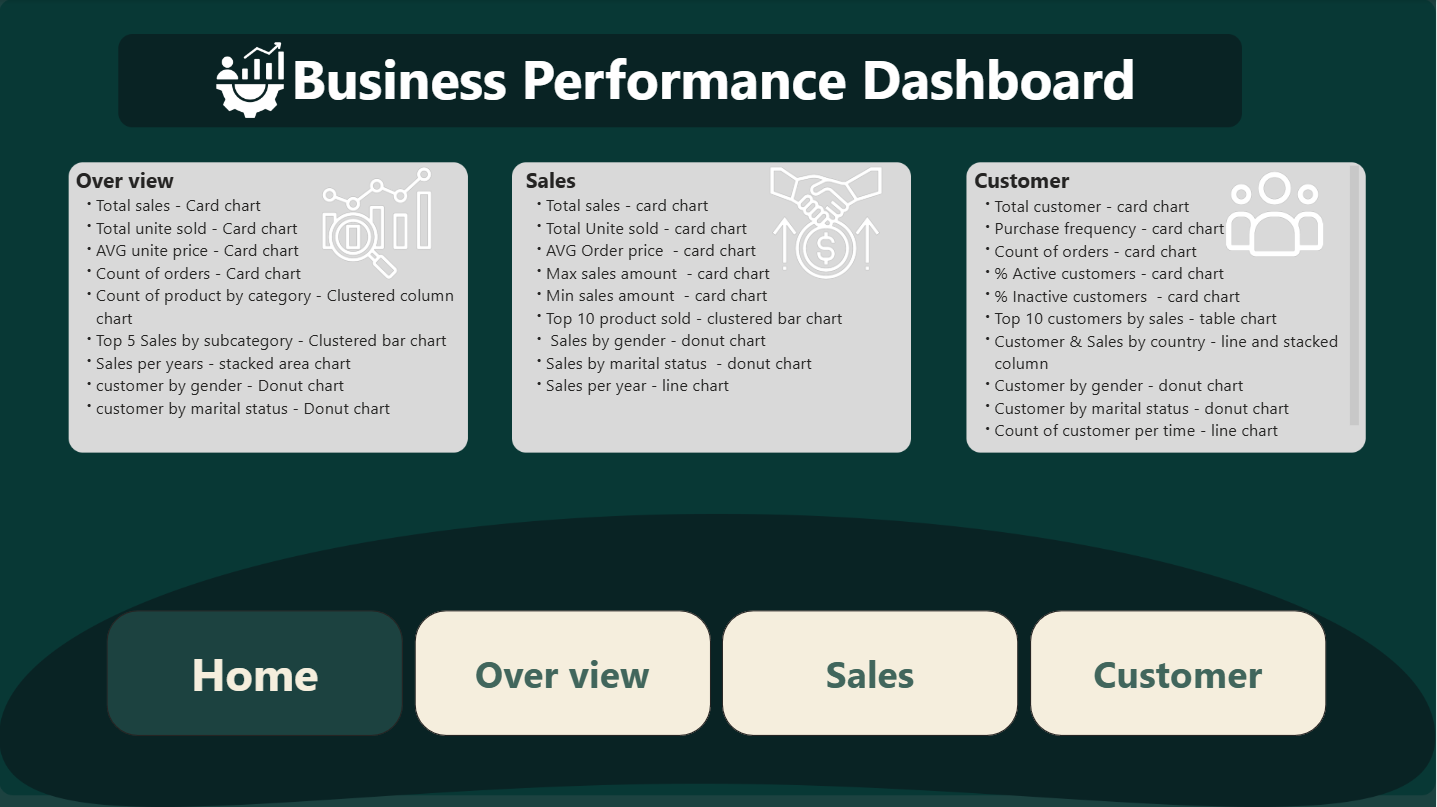

The dashboard page shown, as its layout file describes it:
{"tool":"powerbi","page":{"name":"Home","canvas":[1280,720],"ordinal":0},"visuals":[{"type":"textbox","box":[176,32,864,80],"z":0},{"type":"image","box":[144,32,160,80],"z":1000},{"type":"textbox","box":[64,144,352,256],"z":2000},{"type":"textbox","box":[464,144,352,256],"z":3000},{"type":"textbox","box":[864,144,352,256],"z":4000},{"type":"bookmarkNavigator","box":[96,544,1088,112],"z":5000},{"type":"image","box":[240,144,192,112],"z":6000},{"type":"image","box":[624,144,224,112],"z":7000},{"type":"image","box":[1072,144,128,96],"z":8000}]}

Visuals, with their boxes in screenshot pixels (x1, y1, x2, y2), scaled from the page's 1280x720 canvas onto the 1437x807 screenshot:
textbox: [198,36,1168,126]
image: [162,36,341,126]
textbox: [72,161,467,448]
textbox: [521,161,916,448]
textbox: [970,161,1365,448]
bookmarkNavigator: [108,610,1329,735]
image: [269,161,485,287]
image: [701,161,952,287]
image: [1203,161,1347,269]
